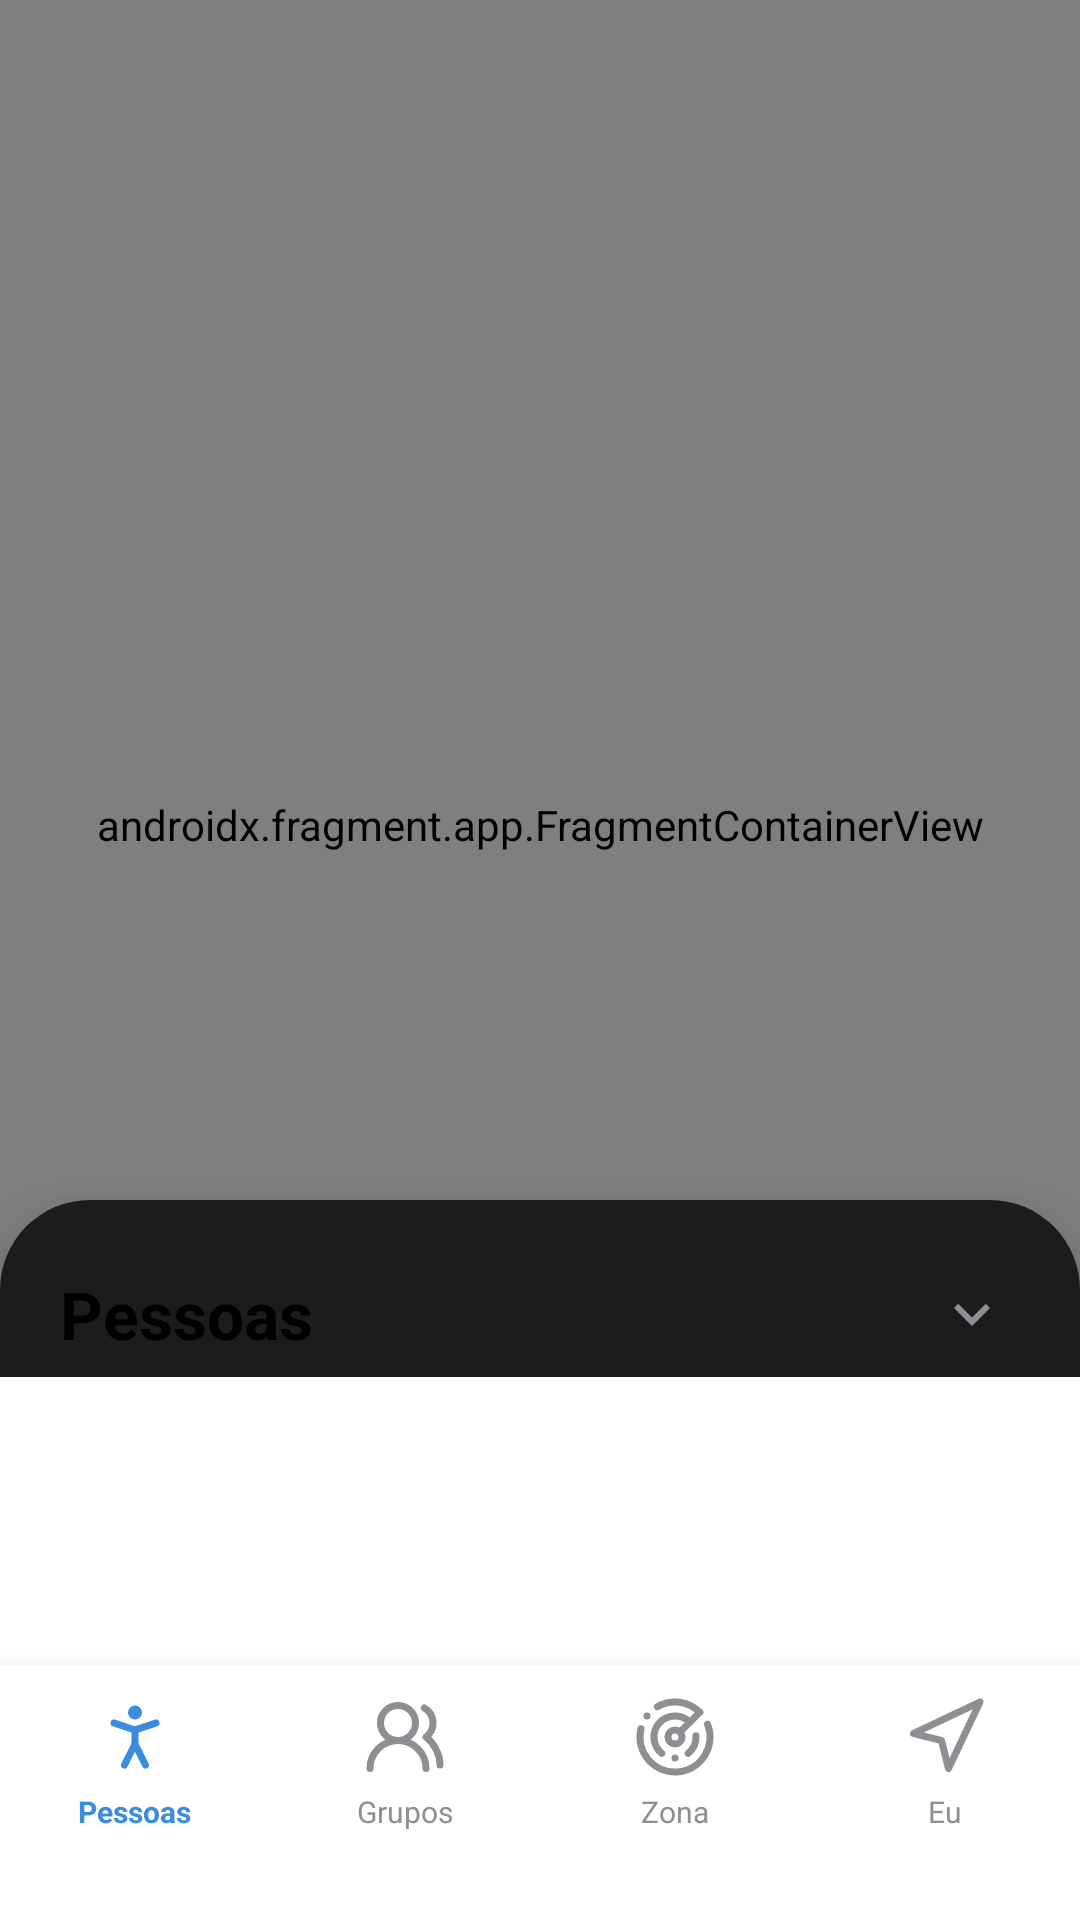

Where icons sit on this 1080 × 1920 app screen, as (x1, y1, x2, y2):
arrow down: (954, 1304, 990, 1326)
